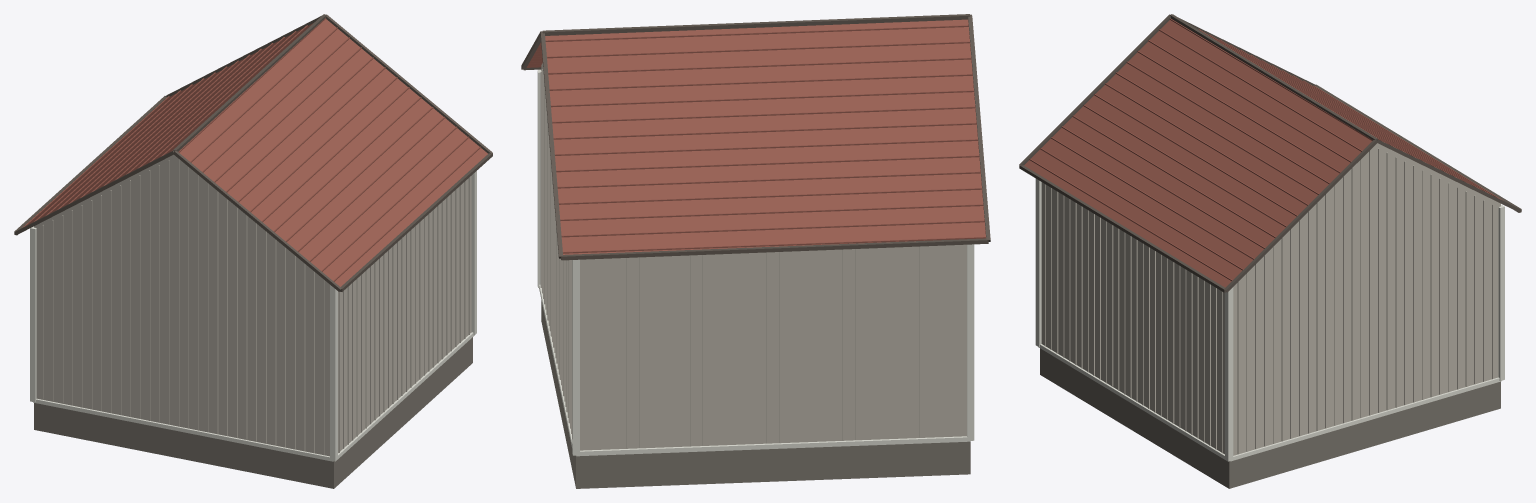
The picture shows the model from 3 angles, left to right: view 1: azimuth 30°, elevation 25°; view 2: azimuth 150°, elevation 25°; view 3: azimuth 270°, elevation 25°; orthographic projection. The views are drawn at different scales.
Parts seen in each view (by area): view 1: Tortuna facility | service-yard-small-outbuilding | Timber, Tortuna facility | service-yard-small-outbuilding | Roof til, Tortuna facility | service-yard-small-outbuilding | Batten, Tortuna facility | service-yard-small-outbuilding | Foundati, Tortuna facility | service-yard-small-outbuilding | Tile cou, Tortuna facility | service-yard-small-outbuilding | Roof fla, Tortuna facility | service-yard-small-outbuilding | White tr; view 2: Tortuna facility | service-yard-small-outbuilding | Roof til, Tortuna facility | service-yard-small-outbuilding | Timber, Tortuna facility | service-yard-small-outbuilding | Batten, Tortuna facility | service-yard-small-outbuilding | Tile cou, Tortuna facility | service-yard-small-outbuilding | Foundati, Tortuna facility | service-yard-small-outbuilding | Roof fla, Tortuna facility | service-yard-small-outbuilding | White tr; view 3: Tortuna facility | service-yard-small-outbuilding | Timber, Tortuna facility | service-yard-small-outbuilding | Roof til, Tortuna facility | service-yard-small-outbuilding | Batten, Tortuna facility | service-yard-small-outbuilding | Foundati, Tortuna facility | service-yard-small-outbuilding | Tile cou, Tortuna facility | service-yard-small-outbuilding | White tr, Tortuna facility | service-yard-small-outbuilding | Roof fla.
Part boxes in pixels (<box>): Tortuna facility | service-yard-small-outbuilding | Timber: <box>34,154,471,456</box>; Tortuna facility | service-yard-small-outbuilding | Roof til: <box>28,19,487,286</box>; Tortuna facility | service-yard-small-outbuilding | Batten: <box>42,158,469,455</box>; Tortuna facility | service-yard-small-outbuilding | Foundati: <box>34,337,472,488</box>; Tortuna facility | service-yard-small-outbuilding | Tile cou: <box>22,18,481,281</box>; Tortuna facility | service-yard-small-outbuilding | Roof fla: <box>14,14,492,291</box>; Tortuna facility | service-yard-small-outbuilding | White tr: <box>30,171,476,461</box>; Tortuna facility | service-yard-small-outbuilding | Roof til: <box>526,19,985,254</box>; Tortuna facility | service-yard-small-outbuilding | Timber: <box>541,63,966,450</box>; Tortuna facility | service-yard-small-outbuilding | Batten: <box>540,68,958,450</box>; Tortuna facility | service-yard-small-outbuilding | Tile cou: <box>527,25,986,253</box>; Tortuna facility | service-yard-small-outbuilding | Foundati: <box>541,300,970,488</box>; Tortuna facility | service-yard-small-outbuilding | Roof fla: <box>521,14,990,260</box>; Tortuna facility | service-yard-small-outbuilding | White tr: <box>537,69,974,456</box>; Tortuna facility | service-yard-small-outbuilding | Timber: <box>1041,143,1500,455</box>; Tortuna facility | service-yard-small-outbuilding | Roof til: <box>1024,20,1371,287</box>; Tortuna facility | service-yard-small-outbuilding | Batten: <box>1044,148,1493,454</box>; Tortuna facility | service-yard-small-outbuilding | Foundati: <box>1040,348,1500,488</box>; Tortuna facility | service-yard-small-outbuilding | Tile cou: <box>1029,18,1503,280</box>; Tortuna facility | service-yard-small-outbuilding | White tr: <box>1035,178,1504,461</box>; Tortuna facility | service-yard-small-outbuilding | Roof fla: <box>1019,14,1521,292</box>.
Bounding box in the file's own units: 10.94 × 7.55 × 10.95.
